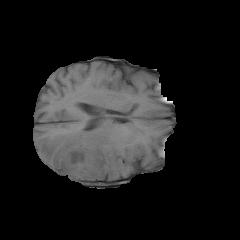glioma: (39, 129, 125, 180)
